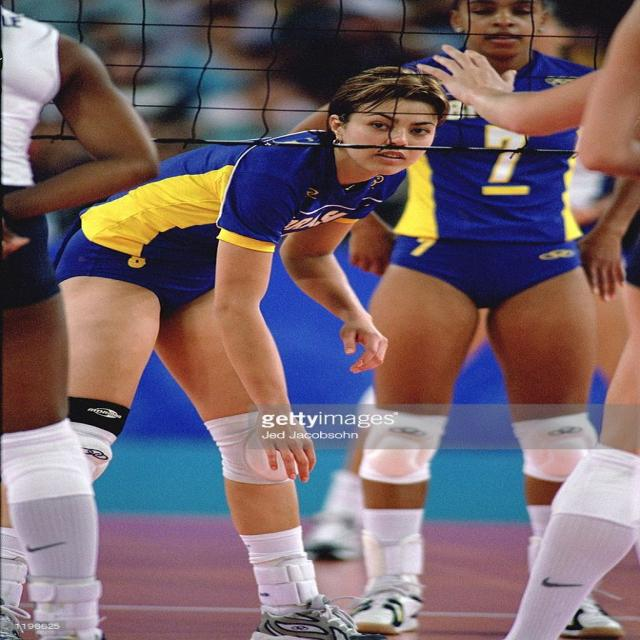body: (0, 58, 449, 640), (336, 0, 633, 639), (416, 0, 639, 639), (0, 0, 165, 639), (0, 2, 451, 137)
